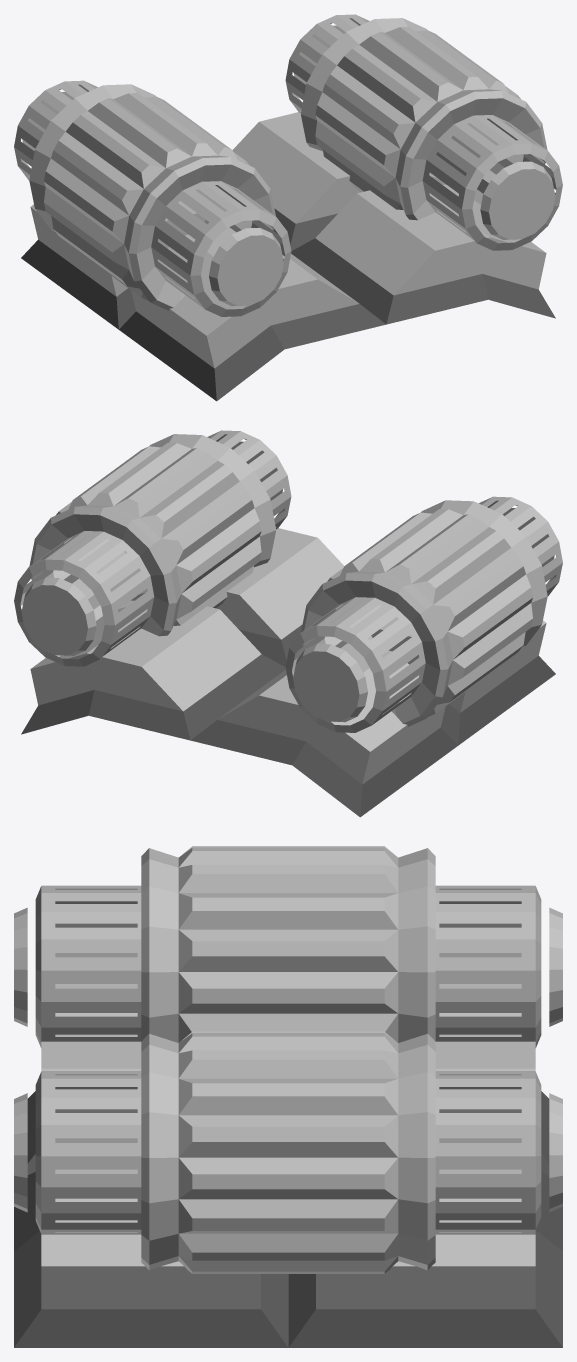
The model's file is HAT-390_UpperShieldGenerator.dae.
3 renders of one model, top to bottom at view 1: azimuth 30°, elevation 25°; view 2: azimuth 150°, elevation 25°; view 3: azimuth 270°, elevation 25°, orthographic. The views are drawn at different scales.
Parts seen in each view (by area): view 1: HAT-390_UpperShieldGenerator; view 2: HAT-390_UpperShieldGenerator; view 3: HAT-390_UpperShieldGenerator.
Boxes of the visible parts, box(x1,y1,x2,y2) form: HAT-390_UpperShieldGenerator: box(14, 14, 562, 401); HAT-390_UpperShieldGenerator: box(14, 430, 562, 817); HAT-390_UpperShieldGenerator: box(14, 846, 562, 1347).
Size of the model in its own units: 6.2 by 5 by 2.82.
